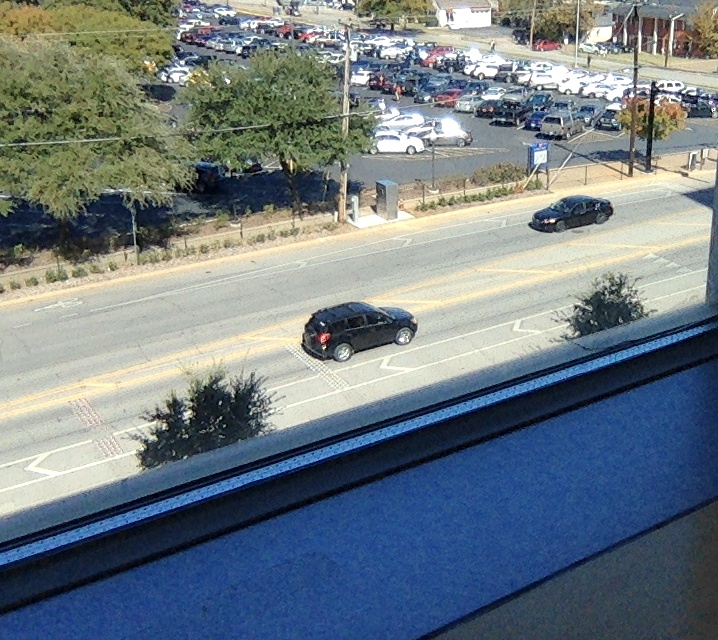car: (300, 300, 418, 363)
